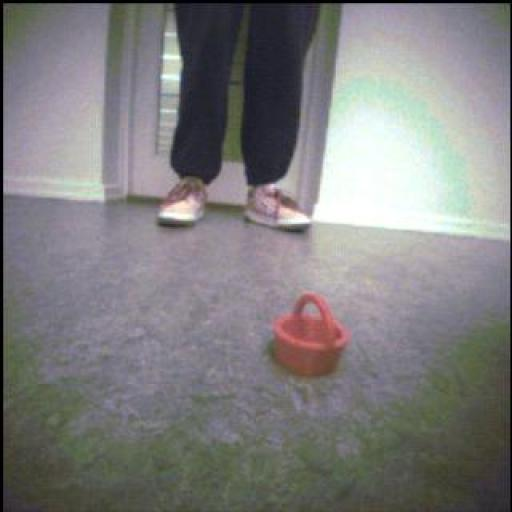Bucket: (275, 294, 350, 377)
